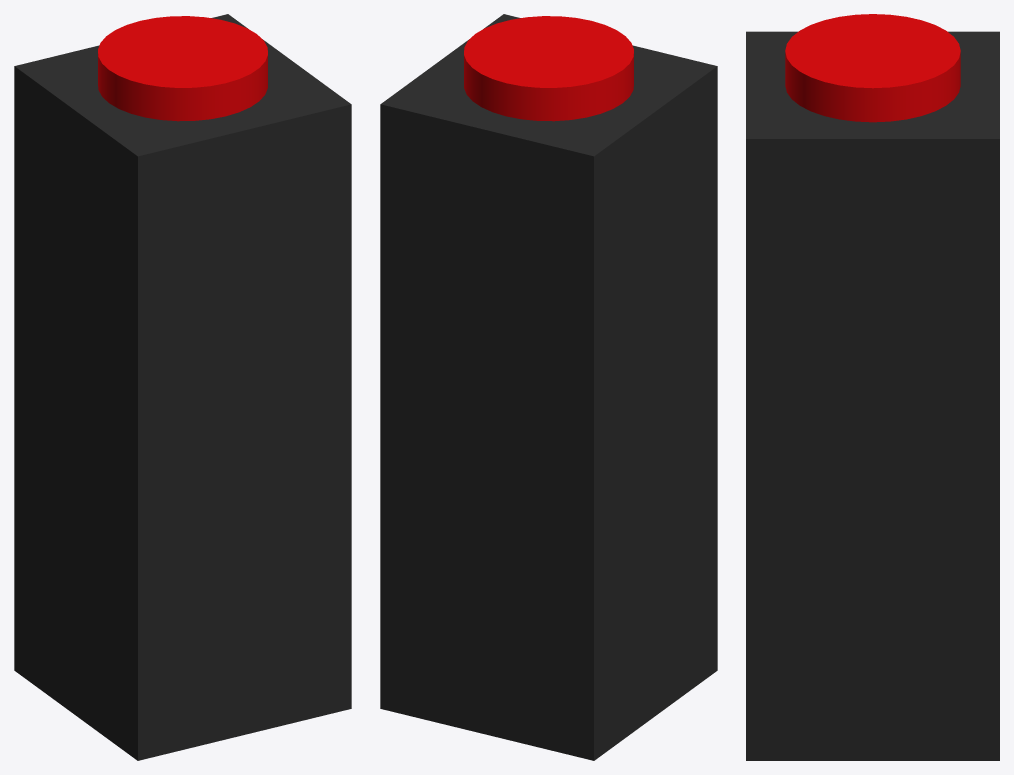
File: Button.fbx
3 views of the same model, side by side, from view 1: azimuth 30°, elevation 25°; view 2: azimuth 150°, elevation 25°; view 3: azimuth 270°, elevation 25° (orthographic). The views are drawn at different scales.
Visible parts, largest first — view 1: Cube§, Cylinder§; view 2: Cube§, Cylinder§; view 3: Cube§, Cylinder§.
Part boxes in pixels (x1=…): Cube§: x1=14, y1=14, x2=351, y2=760; Cylinder§: x1=98, y1=16, x2=267, y2=121; Cube§: x1=380, y1=14, x2=717, y2=760; Cylinder§: x1=464, y1=16, x2=633, y2=121; Cube§: x1=746, y1=31, x2=999, y2=760; Cylinder§: x1=785, y1=14, x2=960, y2=122.
Bounding box in the file's own units: 91.86 × 262 × 91.86.
